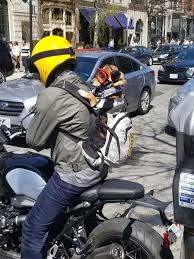helmet: (28, 35, 78, 86)
